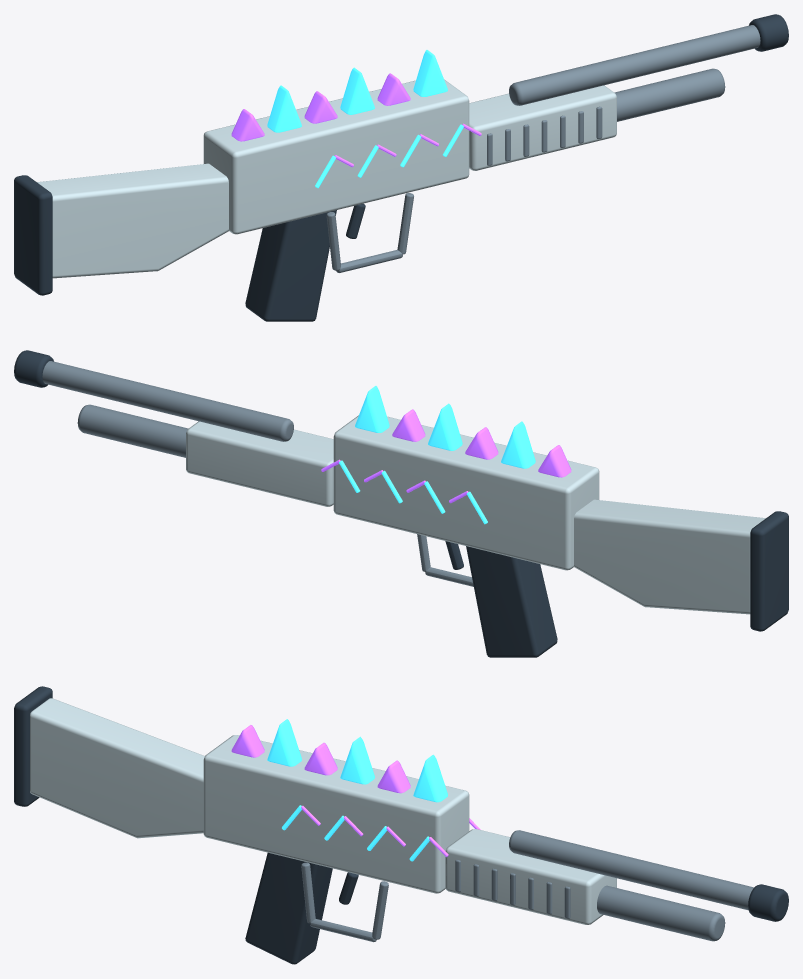
3 views of the same model, one above another, from view 1: azimuth 30°, elevation 25°; view 2: azimuth 150°, elevation 25°; view 3: azimuth 330°, elevation 25° (orthographic).
Visible parts, largest first — view 1: Receiver.005, Shoulder stock.006, Pump / fore-end.001, Pistol grip.007, Barrel.007, Butt pad.006, Magazine tube.001, Ice crest.007, Ice crest.009, Ice crest.011, Muzzle.007, Ice crest.010 (+5 smaller); view 2: Receiver.005, Shoulder stock.006, Pump / fore-end.001, Pistol grip.007, Barrel.007, Butt pad.006, Magazine tube.001, Ice crest.007, Ice crest.009, Ice crest.011, Muzzle.007, Ice crest.010 (+2 smaller); view 3: Receiver.005, Shoulder stock.006, Pump / fore-end.001, Pistol grip.007, Barrel.007, Magazine tube.001, Butt pad.006, Muzzle.007, Ice crest.011, Ice crest.009, Ice crest.007, Ice crest.010 (+5 smaller).
Boxes of the visible parts, x1,y1,x2,y2 form: Receiver.005: (203, 79, 469, 234); Shoulder stock.006: (37, 163, 229, 278); Pump / fore-end.001: (469, 85, 616, 170); Pistol grip.007: (245, 210, 336, 321); Barrel.007: (509, 25, 760, 105); Butt pad.006: (14, 175, 52, 295); Magazine tube.001: (614, 68, 725, 121); Ice crest.007: (267, 85, 301, 132); Ice crest.009: (340, 67, 374, 114); Ice crest.011: (413, 50, 447, 96); Muzzle.007: (749, 14, 788, 51); Ice crest.010: (377, 73, 410, 105); Receiver.005: (333, 415, 599, 570); Shoulder stock.006: (573, 499, 765, 614); Pump / fore-end.001: (186, 421, 333, 506); Pistol grip.007: (466, 546, 557, 657); Barrel.007: (42, 361, 293, 441); Butt pad.006: (750, 511, 788, 631); Magazine tube.001: (77, 404, 188, 457); Ice crest.007: (501, 421, 535, 468); Ice crest.009: (428, 403, 462, 450); Ice crest.011: (355, 386, 389, 432); Muzzle.007: (14, 350, 53, 387); Ice crest.010: (392, 409, 425, 441); Receiver.005: (203, 735, 469, 893); Shoulder stock.006: (30, 698, 204, 838); Pump / fore-end.001: (445, 829, 616, 924); Pistol grip.007: (245, 852, 332, 964); Barrel.007: (509, 830, 753, 910); Magazine tube.001: (597, 885, 725, 941); Butt pad.006: (14, 686, 52, 806); Muzzle.007: (748, 884, 788, 921); Ice crest.011: (413, 754, 447, 802); Ice crest.009: (340, 736, 374, 784); Ice crest.007: (267, 719, 301, 766); Ice crest.010: (377, 760, 410, 793).
Bounding box in the file's own units: 6.21 × 1.82 × 0.5038.
